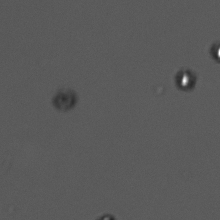Dead Cell: (49, 85, 80, 112)
Living Cell: (173, 68, 198, 92)
